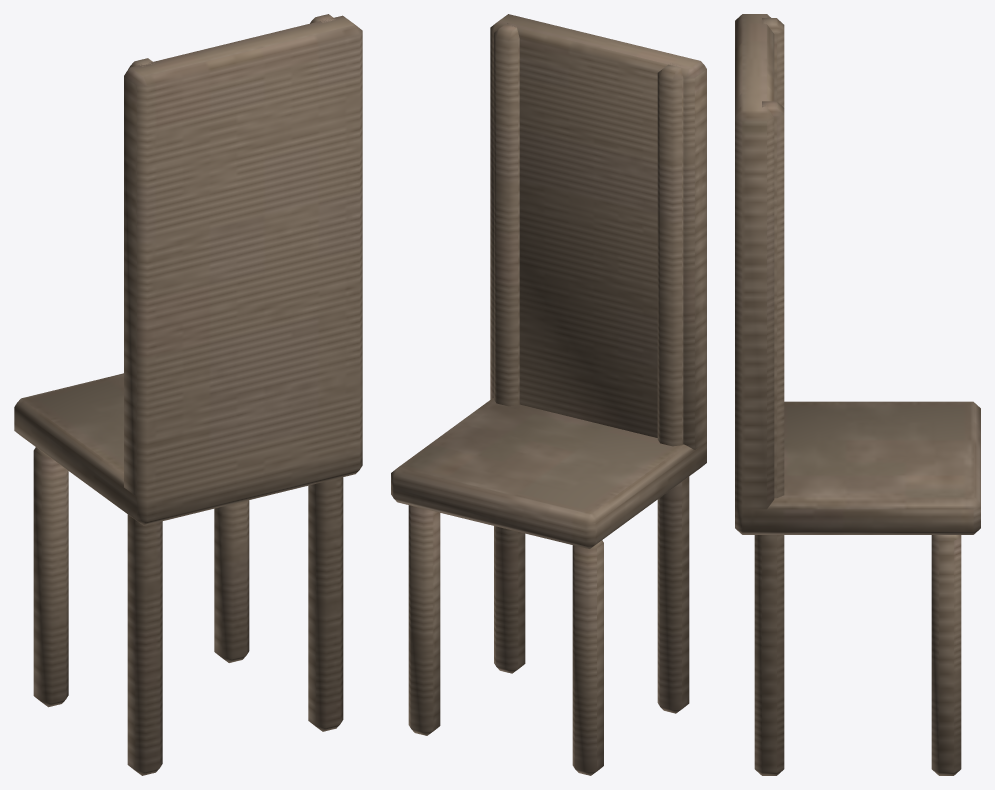
File: chair.glb
3 renders of one model, left to right at view 1: azimuth 30°, elevation 25°; view 2: azimuth 150°, elevation 25°; view 3: azimuth 270°, elevation 25°, orthographic. The views are drawn at different scales.
Parts seen in each view (by area): view 1: chair; view 2: chair; view 3: chair.
Part boxes in pixels (x1=…): chair: x1=14, y1=14, x2=362, y2=775; chair: x1=391, y1=14, x2=706, y2=775; chair: x1=735, y1=14, x2=980, y2=775.
Bounding box in the file's own units: 0.5 × 1.5 × 0.5.
1 material, 1 textured.
